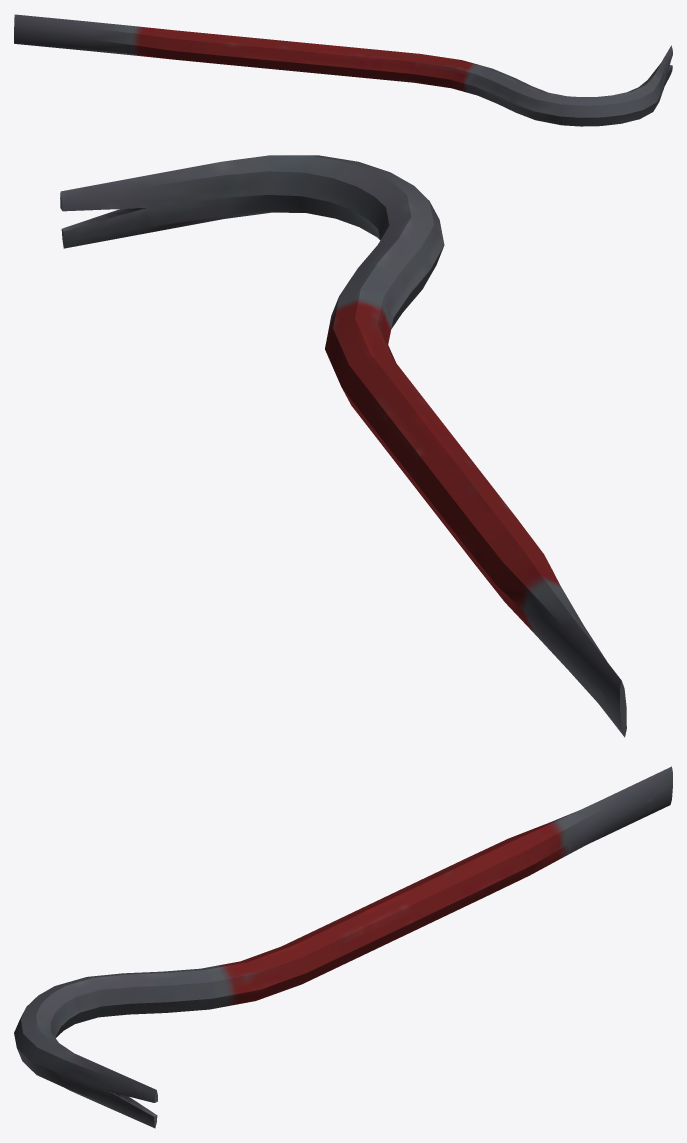
The model's file is Crowbar.fbx.
3 renders of one model, top to bottom at view 1: azimuth 30°, elevation 25°; view 2: azimuth 150°, elevation 25°; view 3: azimuth 270°, elevation 25°, orthographic. The views are drawn at different scales.
Parts seen in each view (by area): view 1: mdlCrowbar; view 2: mdlCrowbar; view 3: mdlCrowbar.
Part boxes in pixels (bbox=[...]): mdlCrowbar: bbox=[14, 14, 672, 126]; mdlCrowbar: bbox=[60, 155, 626, 737]; mdlCrowbar: bbox=[14, 766, 672, 1128].
Size of the model in its own units: 1.62 by 0.12 by 1.44.
1 material, 1 textured.
